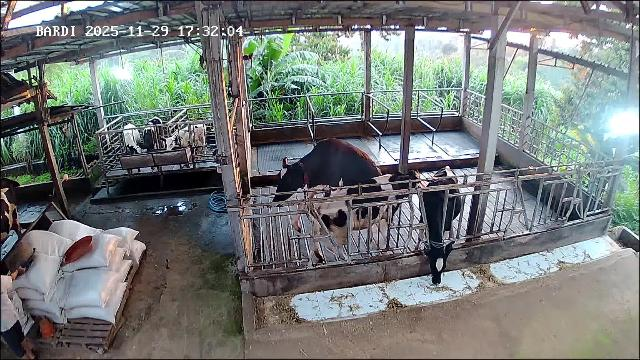mounting: (274, 141, 387, 241)
